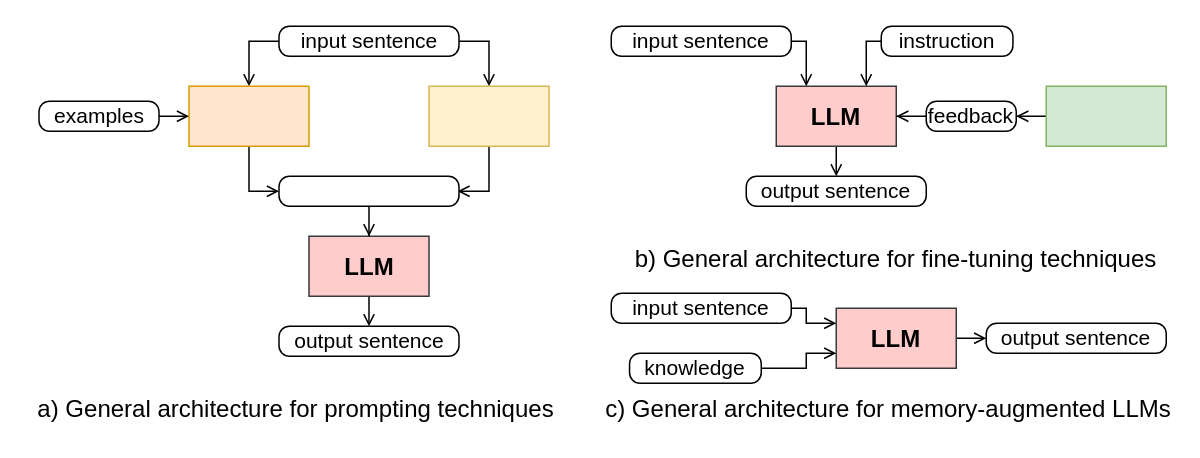
The diagram is 1200 pixels wide and 458 high, and some of its shapes have lost their labels. Here are the shapes that lost their labels. From the top down, the centre of each, then its label:
At point (248, 115): "Create Prompt".
At point (488, 115): "Select Prompt".
At point (1105, 115): "Reward Model".
At point (368, 190): "input prompt".
